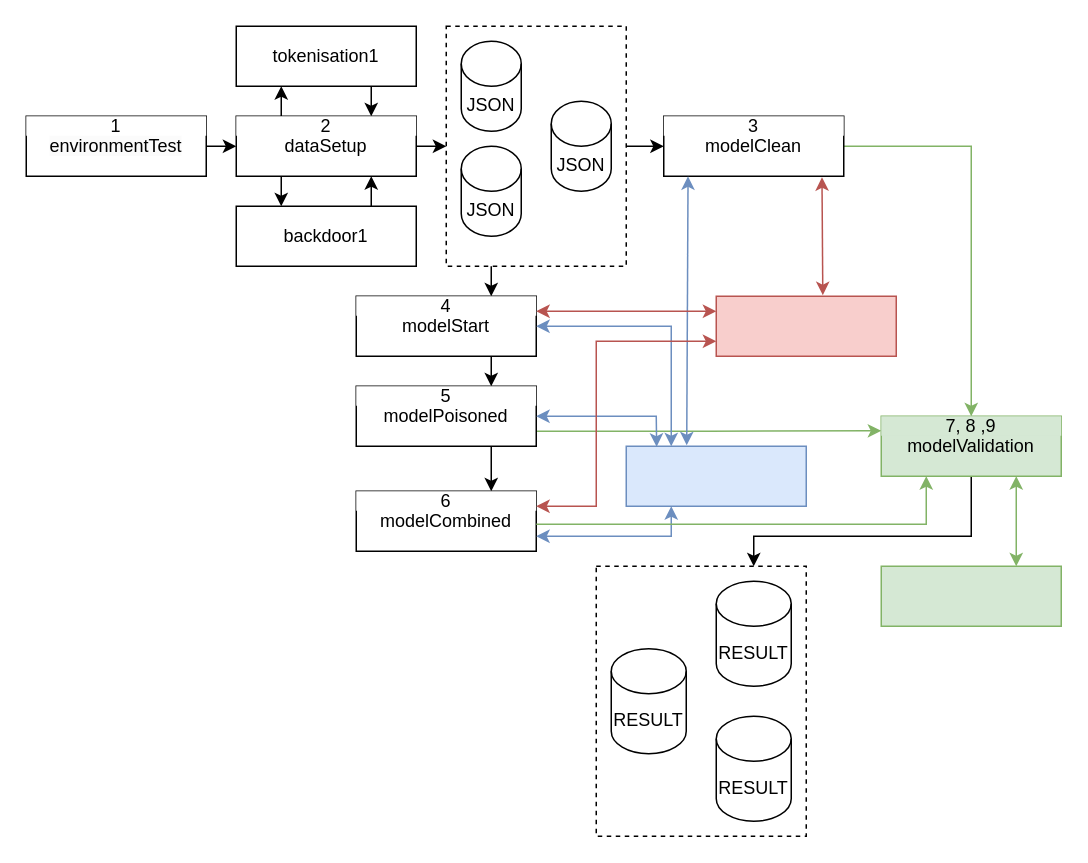
The diagram is 1088 pixels wide and 863 high, and some of its shapes have lost their labels. Here are the shapes that lost their labels. From the top down, the centre of each, then its label:
the point at 805,325: tfConvert
the point at 715,475: TrainingLoop
the point at 970,595: softF1
